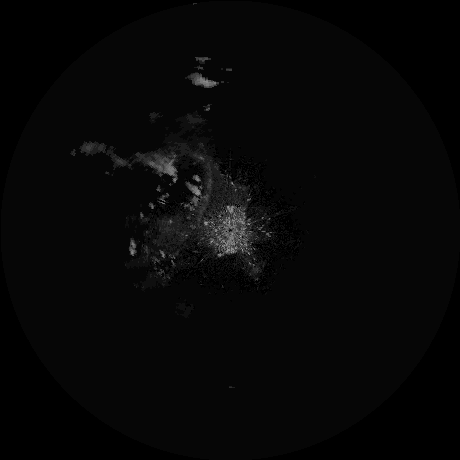frontgust: (197, 161, 210, 229)
